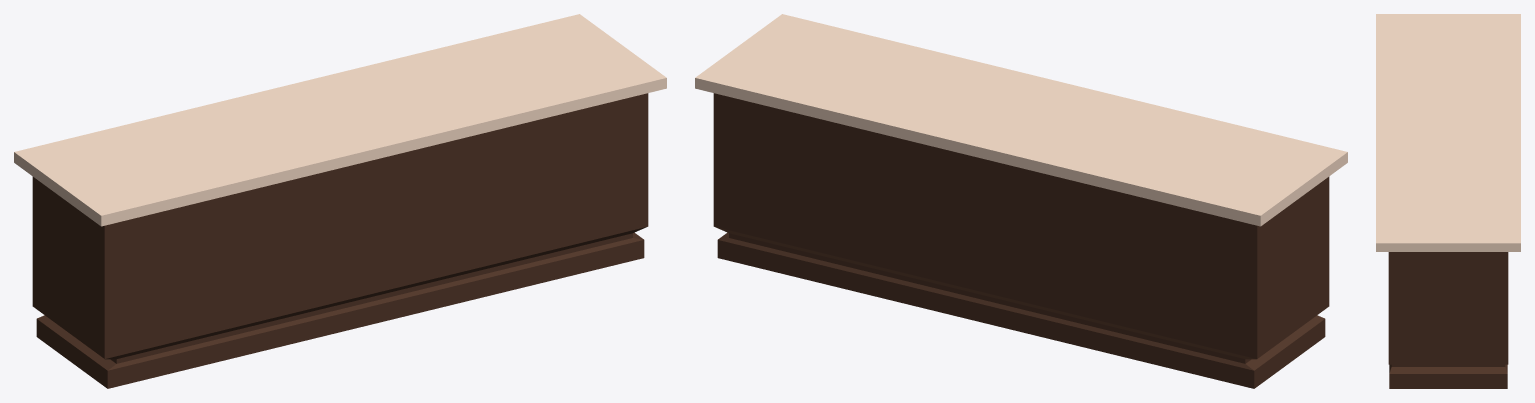
The model's file is Counter.fbx.
The picture shows the model from 3 angles, left to right: view 1: azimuth 30°, elevation 25°; view 2: azimuth 150°, elevation 25°; view 3: azimuth 270°, elevation 25°; orthographic projection. The views are drawn at different scales.
Parts seen in each view (by area): view 1: Cube; view 2: Cube; view 3: Cube.
Boxes of the visible parts, x1,y1,x2,y2 form: Cube: (14, 14, 666, 388); Cube: (695, 14, 1347, 388); Cube: (1376, 14, 1520, 388).
Size of the model in its own units: 384 by 119 by 103.
